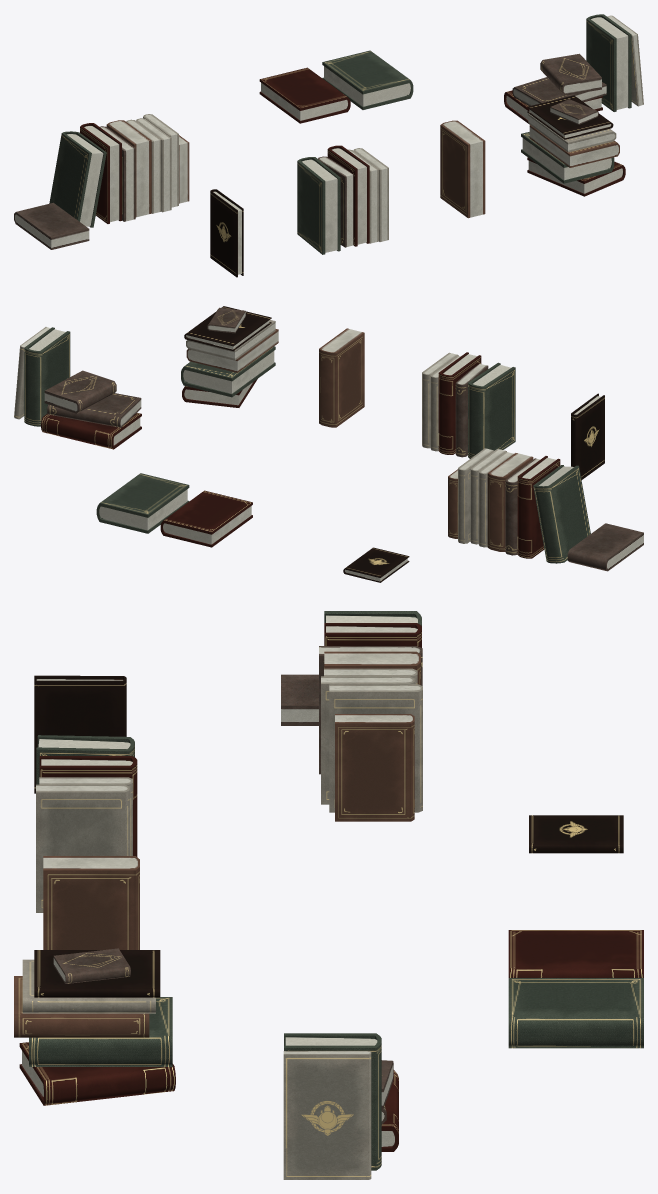
Rendered from booksMore.fbx.
The picture shows the model from 3 angles, top to bottom: view 1: azimuth 30°, elevation 25°; view 2: azimuth 150°, elevation 25°; view 3: azimuth 270°, elevation 25°; orthographic projection. The views are drawn at different scales.
Visible parts, largest first — view 1: prop_books_03_inst_001.002, prop_books_01_inst_001.006, prop_books_03_inst_001.007, prop_book_03_inst_002, prop_books_02_inst_001.001, prop_book_02_inst_001, prop_books_03_inst_001.005, prop_books_01_inst_001.003, prop_books_01_inst_001.007, prop_books_03_inst_001.008, prop_books_01_inst_001.001, prop_books_02_inst_001.003 (+17 smaller); view 2: prop_books_01_inst_001.006, prop_books_03_inst_001.002, prop_books_03_inst_001.007, prop_book_03_inst_002, prop_book_02_inst_001, prop_books_02_inst_001.001, prop_books_03_inst_001.005, prop_books_01_inst_001.003, prop_books_01_inst_001.007, prop_books_05_inst_001.002, prop_books_02_inst_001.005, prop_books_03_inst_001.008 (+18 smaller); view 3: prop_books_02_inst_001, prop_book_03_inst_002, prop_books_03_inst_001.002, prop_books_01_inst_001.005, prop_books_03_inst_001.006, prop_book_02_inst_001, prop_books_03_inst_001.005, prop_books_05_inst_001.002, prop_books_05_inst_001.001, prop_books_01_inst_001, prop_books_05_inst_001.003, prop_books_05_inst_001.004 (+15 smaller).
Part boxes in pixels (x1,y1,x2,y2): prop_books_03_inst_001.002: [440, 120, 485, 218]; prop_books_01_inst_001.006: [49, 131, 106, 227]; prop_books_03_inst_001.007: [297, 157, 340, 254]; prop_book_03_inst_002: [322, 50, 413, 109]; prop_books_02_inst_001.001: [586, 14, 631, 111]; prop_book_02_inst_001: [259, 67, 350, 123]; prop_books_03_inst_001.005: [210, 189, 243, 277]; prop_books_01_inst_001.003: [14, 202, 89, 249]; prop_books_01_inst_001.007: [80, 123, 121, 223]; prop_books_03_inst_001.008: [327, 145, 369, 246]; prop_books_01_inst_001.001: [106, 120, 151, 217]; prop_books_02_inst_001.003: [540, 53, 601, 95]; prop_books_01_inst_001.006: [533, 465, 590, 563]; prop_books_03_inst_001.002: [319, 328, 364, 427]; prop_books_03_inst_001.007: [468, 362, 515, 458]; prop_book_03_inst_002: [96, 473, 189, 533]; prop_book_02_inst_001: [160, 490, 252, 547]; prop_books_02_inst_001.001: [24, 327, 70, 426]; prop_books_03_inst_001.005: [571, 393, 604, 479]; prop_books_01_inst_001.003: [567, 523, 643, 571]; prop_books_01_inst_001.007: [517, 456, 560, 558]; prop_books_05_inst_001.002: [181, 346, 275, 397]; prop_books_02_inst_001.005: [41, 413, 141, 449]; prop_books_03_inst_001.008: [438, 352, 481, 454]; prop_books_02_inst_001: [283, 1051, 371, 1179]; prop_book_03_inst_002: [508, 978, 643, 1048]; prop_books_03_inst_001.002: [43, 856, 139, 949]; prop_books_01_inst_001.005: [335, 714, 414, 821]; prop_books_03_inst_001.006: [36, 784, 129, 912]; prop_book_02_inst_001: [508, 930, 643, 977]; prop_books_03_inst_001.005: [34, 675, 126, 793]; prop_books_05_inst_001.002: [29, 997, 172, 1066]; prop_books_05_inst_001.001: [19, 1042, 175, 1105]; prop_books_01_inst_001: [329, 684, 422, 812]; prop_books_05_inst_001.003: [34, 950, 160, 997]; prop_books_05_inst_001.004: [14, 976, 149, 1037].
Size of the model in its own units: 355 by 45.31 by 195.
